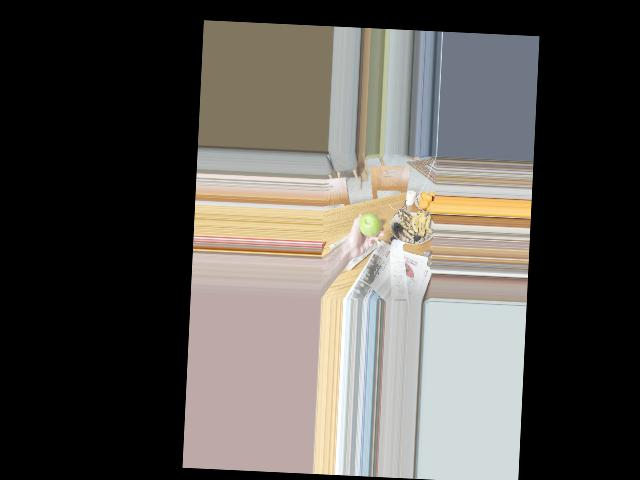apple: (358, 212, 382, 237)
